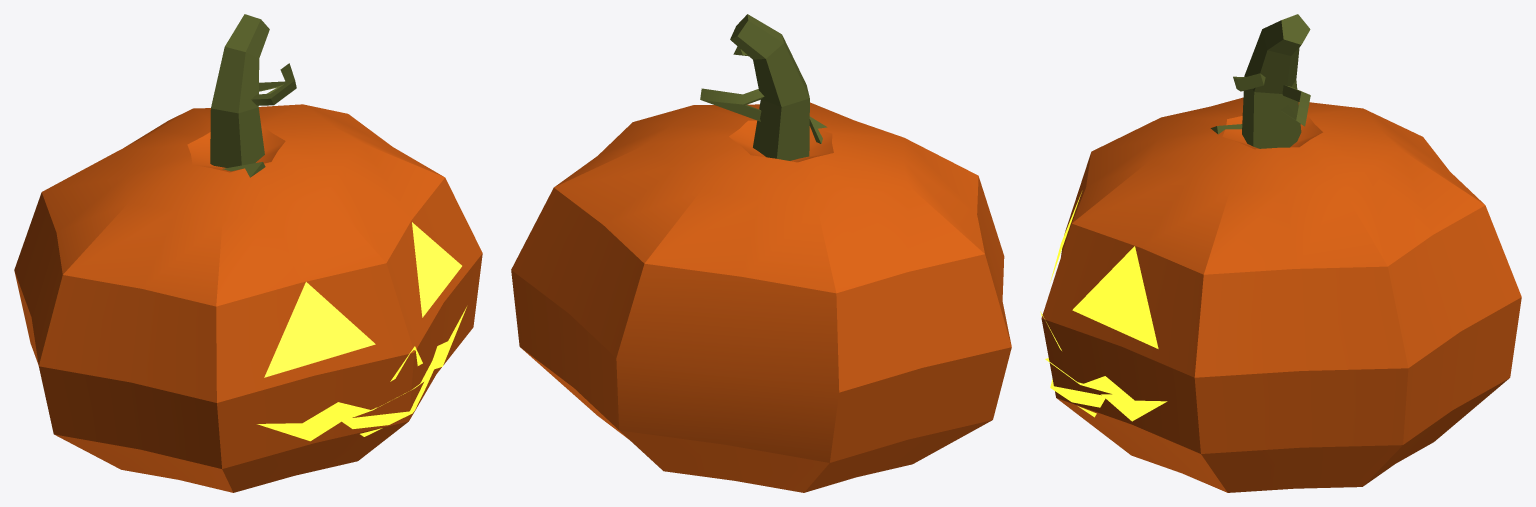
The model's file is jack_o_lantern.glb.
3 renders of one model, left to right at view 1: azimuth 30°, elevation 25°; view 2: azimuth 150°, elevation 25°; view 3: azimuth 270°, elevation 25°, orthographic. The views are drawn at different scales.
Parts seen in each view (by area): view 1: jack_o_lantern; view 2: jack_o_lantern; view 3: jack_o_lantern.
Part boxes in pixels (x1,y1,x2,y2): jack_o_lantern: (14, 14, 482, 492); jack_o_lantern: (511, 14, 1011, 492); jack_o_lantern: (1040, 14, 1521, 492).
Size of the model in its own units: 0.4894 by 0.4546 by 0.4573.
